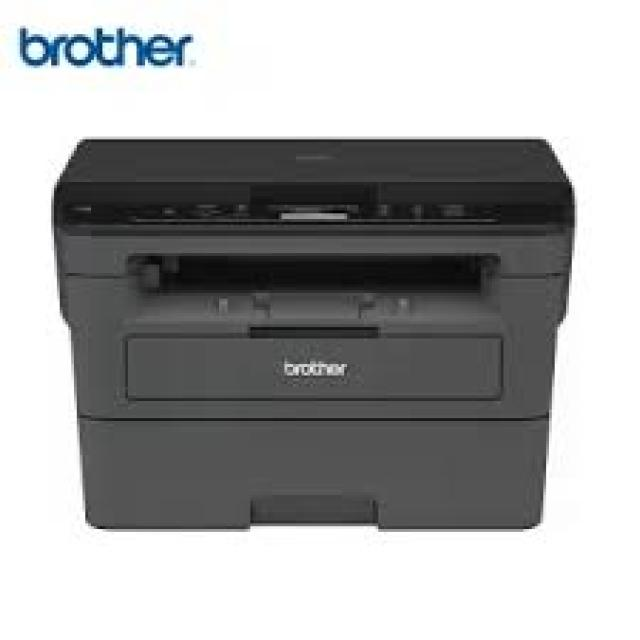printer: (48, 134, 574, 532)
